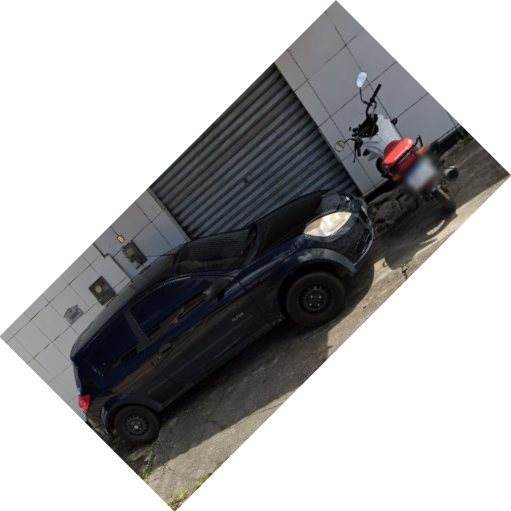car: (65, 188, 376, 446)
